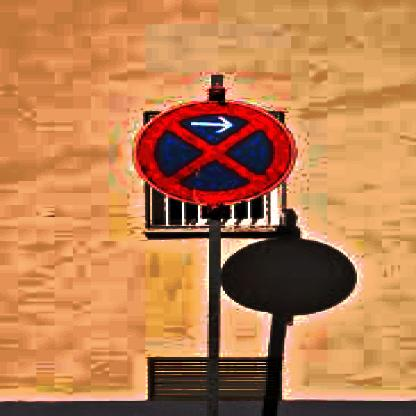No stopping: (132, 96, 290, 206)
